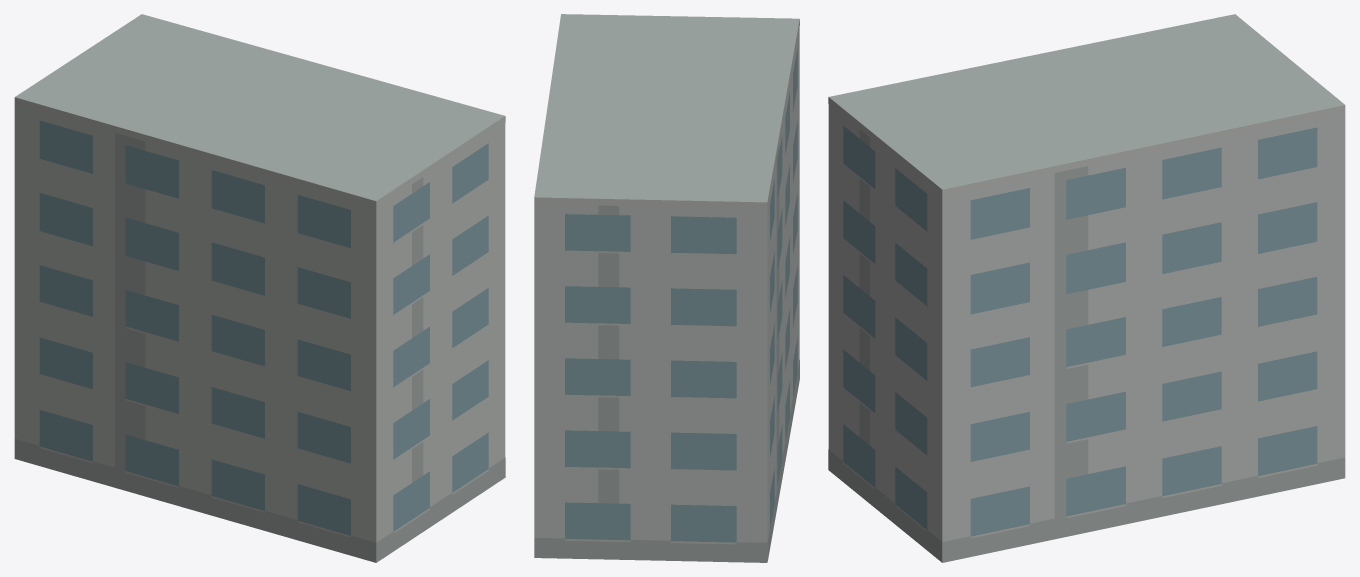
The model's file is survey-upis-32882522.glb.
3 renders of one model, left to right at view 1: azimuth 30°, elevation 25°; view 2: azimuth 150°, elevation 25°; view 3: azimuth 270°, elevation 25°, orthographic. The views are drawn at different scales.
Visible parts, largest first — view 1: survey-upis-32882522.tmp; view 2: survey-upis-32882522.tmp; view 3: survey-upis-32882522.tmp.
Part boxes in pixels (box(x1,y1,x2,y2)): survey-upis-32882522.tmp: box(14, 14, 505, 562); survey-upis-32882522.tmp: box(534, 14, 799, 562); survey-upis-32882522.tmp: box(828, 14, 1345, 562).
Bounding box in the file's own units: 13.24 × 13.1 × 16.45.
